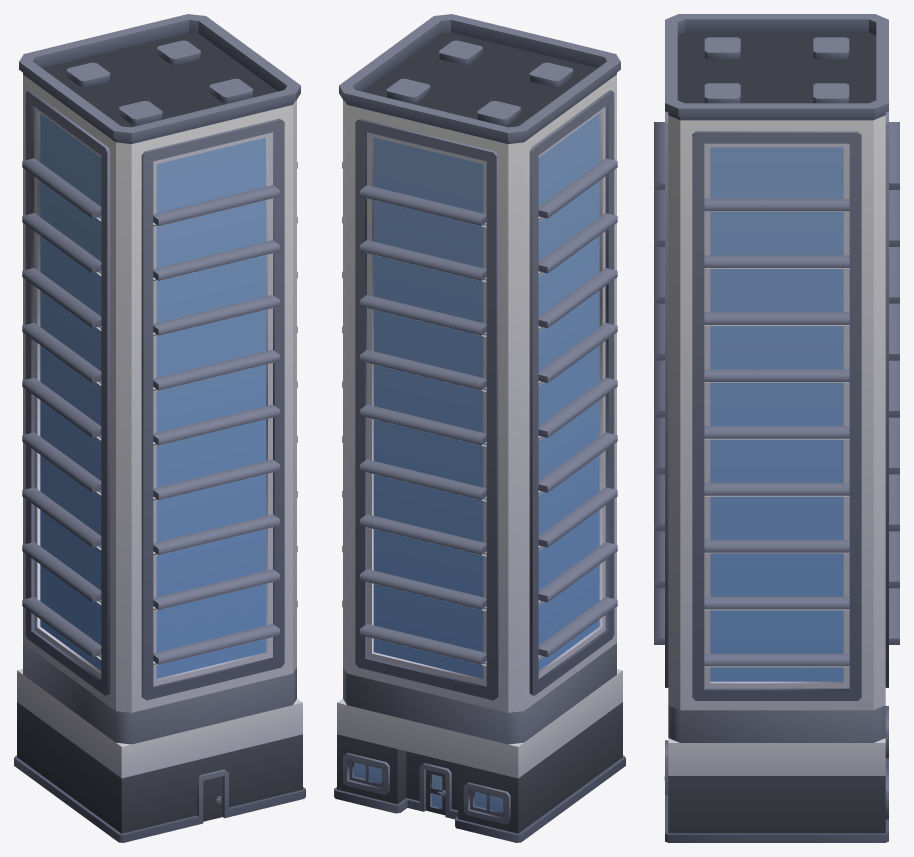
Rendered from tower_1.fbx.
3 views of the same model, side by side, from view 1: azimuth 30°, elevation 25°; view 2: azimuth 150°, elevation 25°; view 3: azimuth 270°, elevation 25° (orthographic). The views are drawn at different scales.
Parts seen in each view (by area): view 1: tower_1; view 2: tower_1; view 3: tower_1.
Boxes of the visible parts, x1,y1,x2,y2 form: tower_1: (14, 14, 305, 842); tower_1: (334, 14, 625, 842); tower_1: (654, 14, 899, 842).
Bounding box in the file's own units: 1.36 × 4.48 × 1.36.
1 material, 1 textured.
